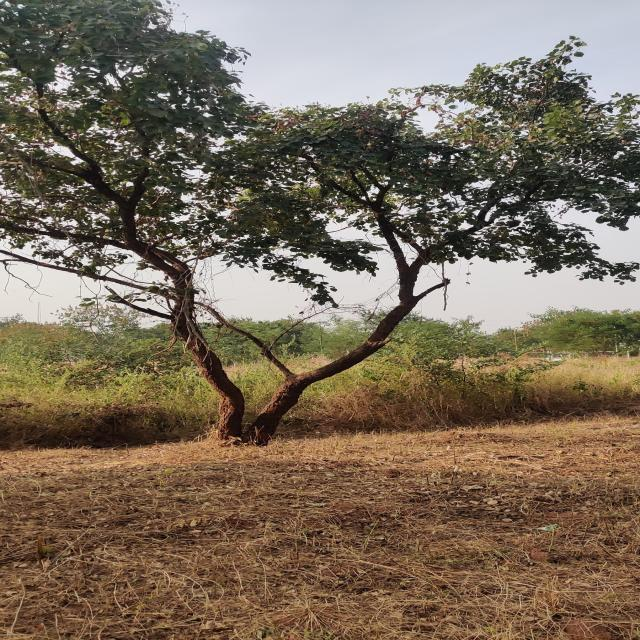Devakanchan tree: (1, 3, 640, 301)
